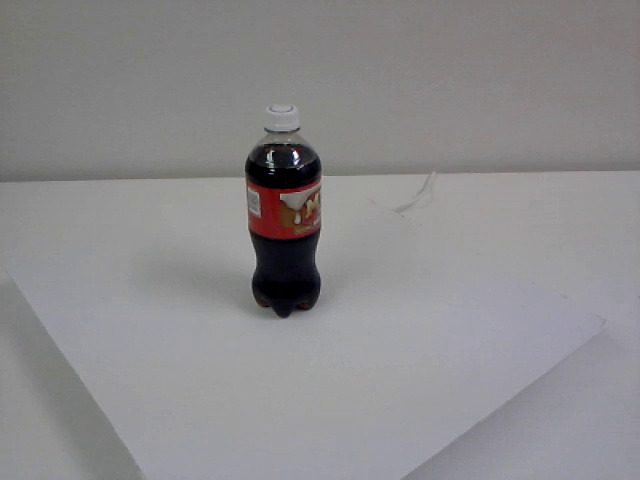botolplastik: (245, 102, 324, 319)
